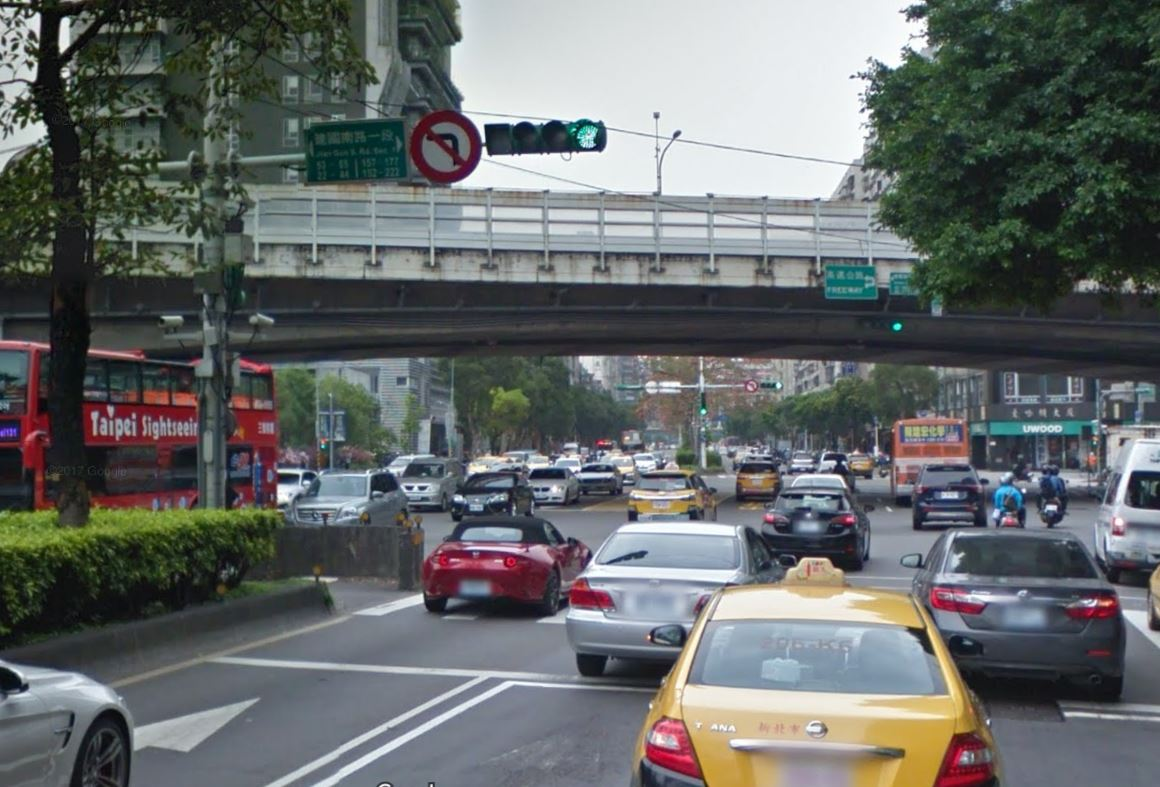No_left_turn: (409, 110, 481, 182)
Traffic_light_green: (482, 118, 607, 155)
